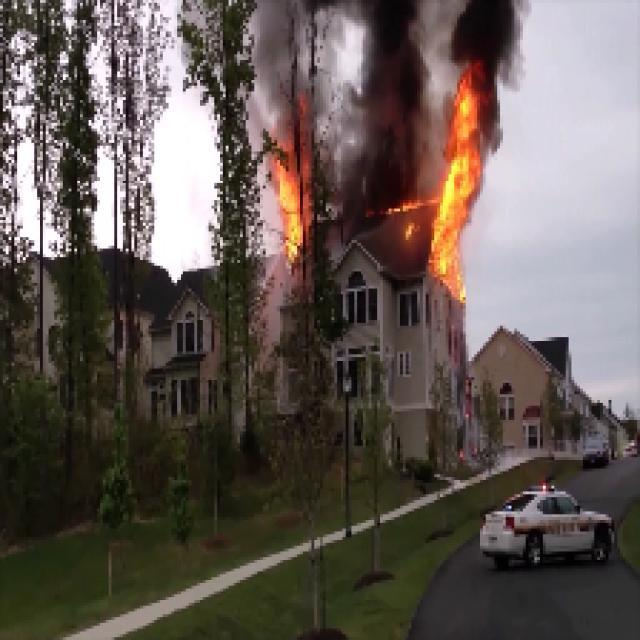Fire: (433, 64, 474, 302), (272, 158, 316, 258)
Smoke: (348, 8, 418, 224), (254, 0, 326, 149), (458, 1, 526, 54)
